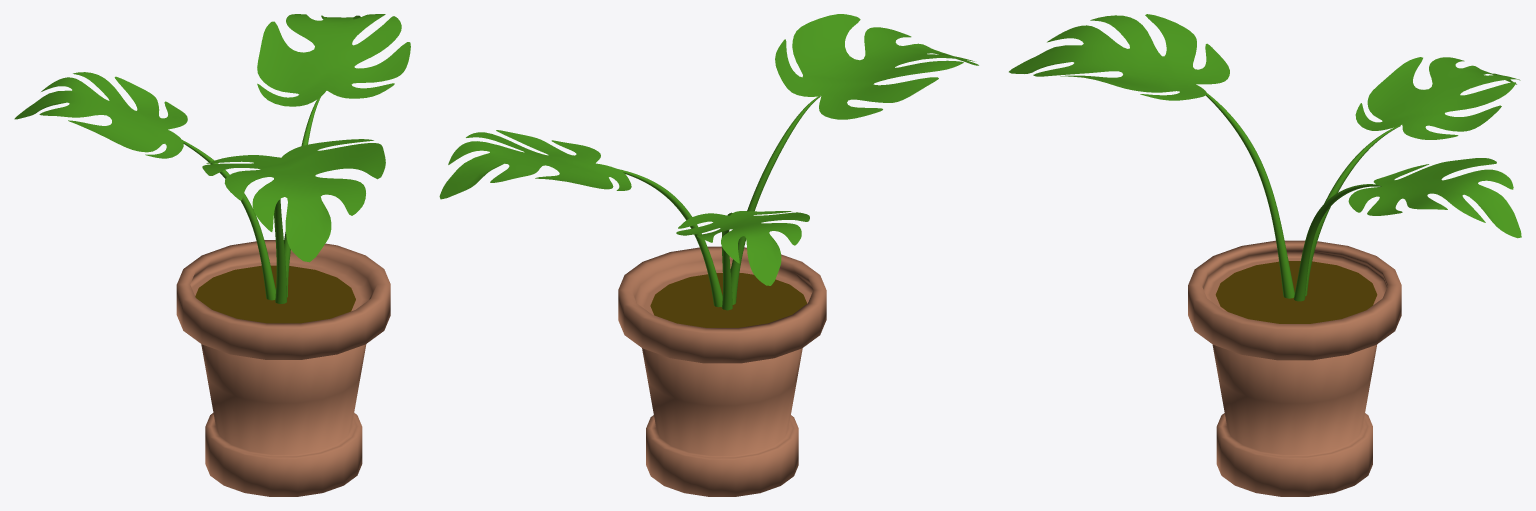
File: Plant.fbx
3 renders of one model, left to right at view 1: azimuth 30°, elevation 25°; view 2: azimuth 150°, elevation 25°; view 3: azimuth 270°, elevation 25°, orthographic. The views are drawn at different scales.
Parts seen in each view (by area): view 1: Plant; view 2: Plant; view 3: Plant.
Part boxes in pixels (x1,y1,x2,y2): Plant: (14, 14, 410, 496); Plant: (439, 14, 978, 496); Plant: (1009, 14, 1521, 496).
Size of the model in its own units: 513 by 543 by 657.
